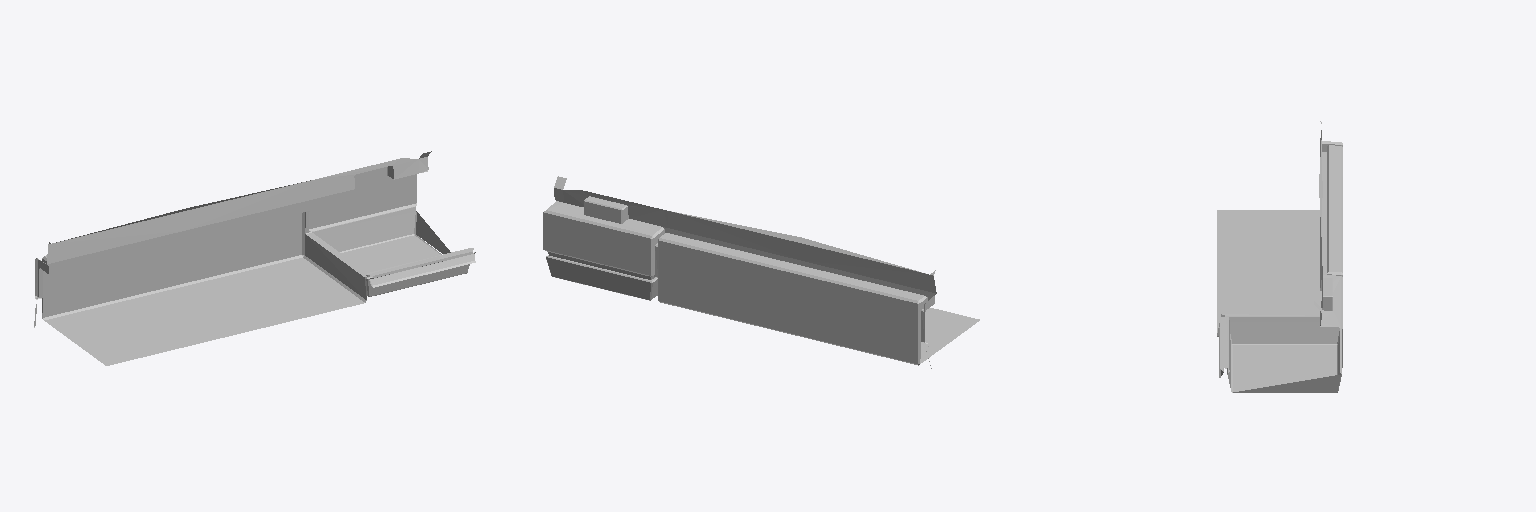
Rendered from shard18.obj.
The picture shows the model from 3 angles: view 1: azimuth 30°, elevation 25°; view 2: azimuth 150°, elevation 25°; view 3: azimuth 270°, elevation 25°; orthographic projection.
Visible parts, largest first — view 1: defaultMaterial.016; view 2: defaultMaterial.016; view 3: defaultMaterial.016.
Part boxes in pixels (x1,y1,x2,y2): defaultMaterial.016: (34, 151, 475, 365); defaultMaterial.016: (543, 176, 979, 368); defaultMaterial.016: (1217, 121, 1342, 392).
Bounding box in the file's own units: 8.84 × 2 × 2.52.